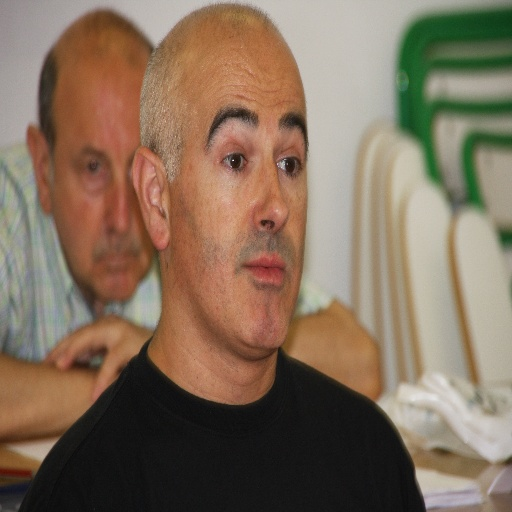hand: (51, 290, 127, 403)
